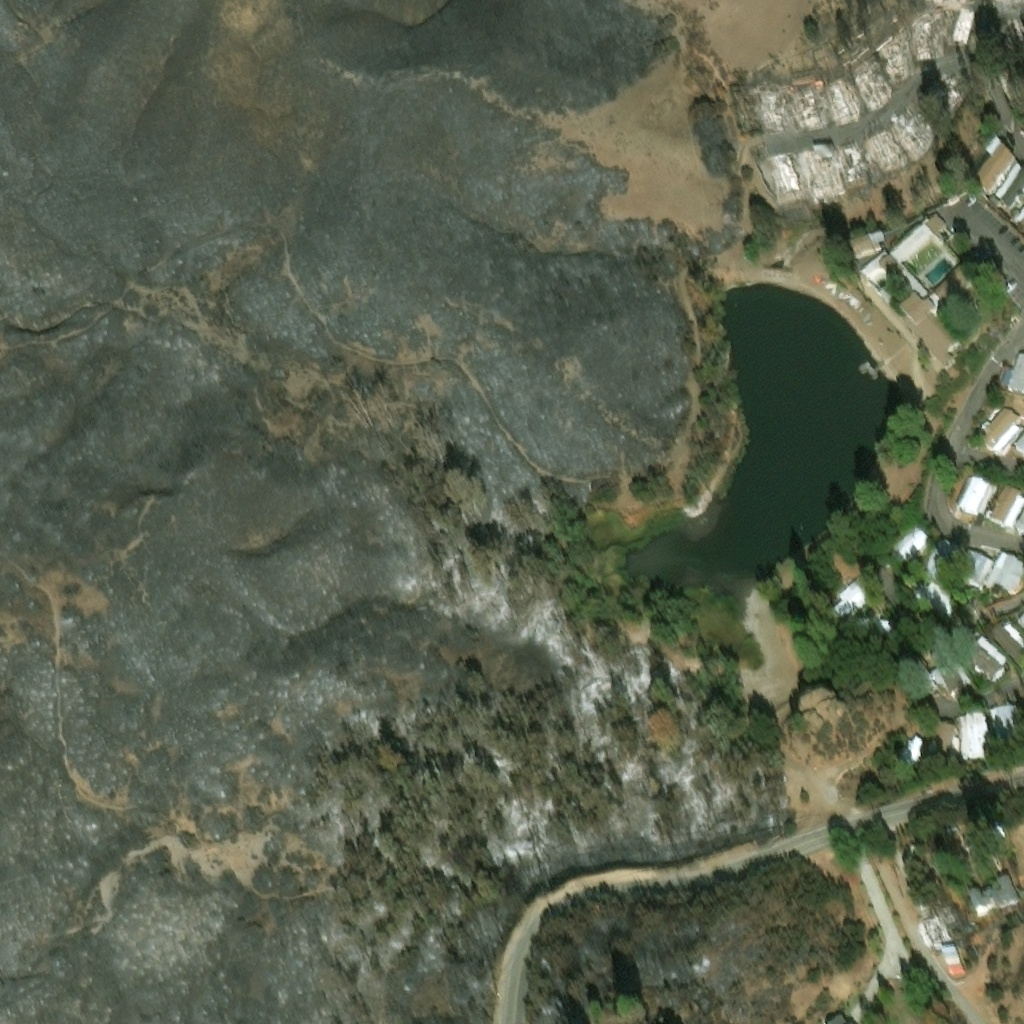0 no-damage: (886, 204, 949, 295), (898, 287, 962, 363), (857, 241, 903, 298), (970, 399, 1019, 452), (967, 133, 1015, 187), (949, 709, 992, 761), (954, 471, 998, 518), (965, 635, 1009, 682), (986, 157, 1023, 212), (829, 570, 871, 615), (931, 258, 975, 300), (989, 616, 1023, 669), (967, 868, 1016, 904), (891, 524, 934, 565), (987, 481, 1023, 529), (914, 582, 960, 619), (956, 549, 994, 593), (925, 539, 960, 586), (986, 551, 1023, 595), (989, 702, 1023, 746), (923, 719, 955, 763), (995, 345, 1023, 389), (902, 653, 935, 690), (851, 607, 893, 635), (896, 732, 926, 769), (845, 222, 882, 249), (937, 934, 964, 968), (823, 1009, 854, 1023), (1011, 199, 1023, 224), (1011, 426, 1023, 450), (972, 895, 992, 907), (1004, 892, 1018, 903)
3 destroyed: (891, 94, 940, 149), (917, 64, 966, 117), (798, 133, 840, 189), (763, 141, 807, 193), (870, 27, 910, 75), (849, 50, 887, 99), (830, 126, 868, 175), (788, 74, 826, 121), (863, 114, 900, 162), (823, 66, 860, 111), (755, 79, 788, 121), (910, 9, 940, 53), (941, 4, 974, 44), (917, 906, 944, 937), (936, 897, 950, 913), (928, 928, 944, 937)
4 un-classified: (984, 824, 1008, 847), (1010, 22, 1023, 47), (963, 831, 979, 850)
